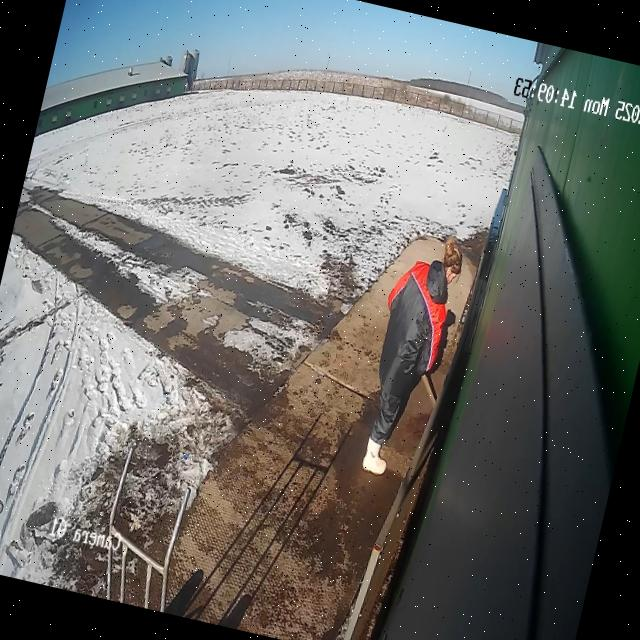Red uniform: (346, 224, 471, 486)
